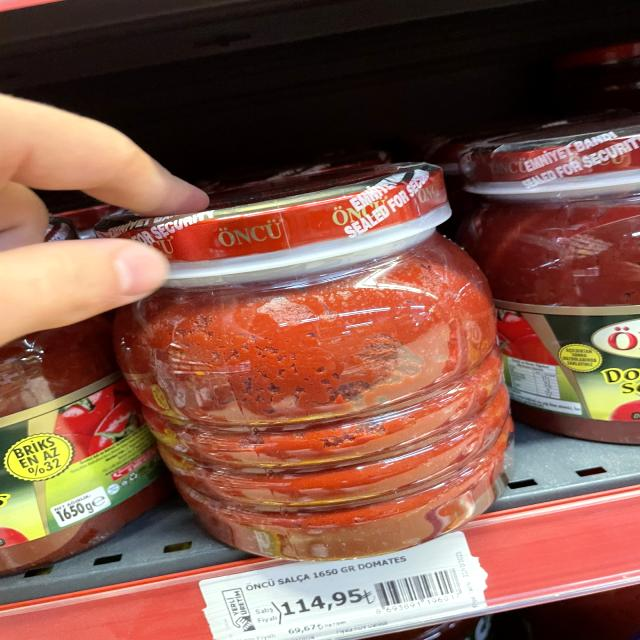tomato paste: (116, 193, 512, 551)
